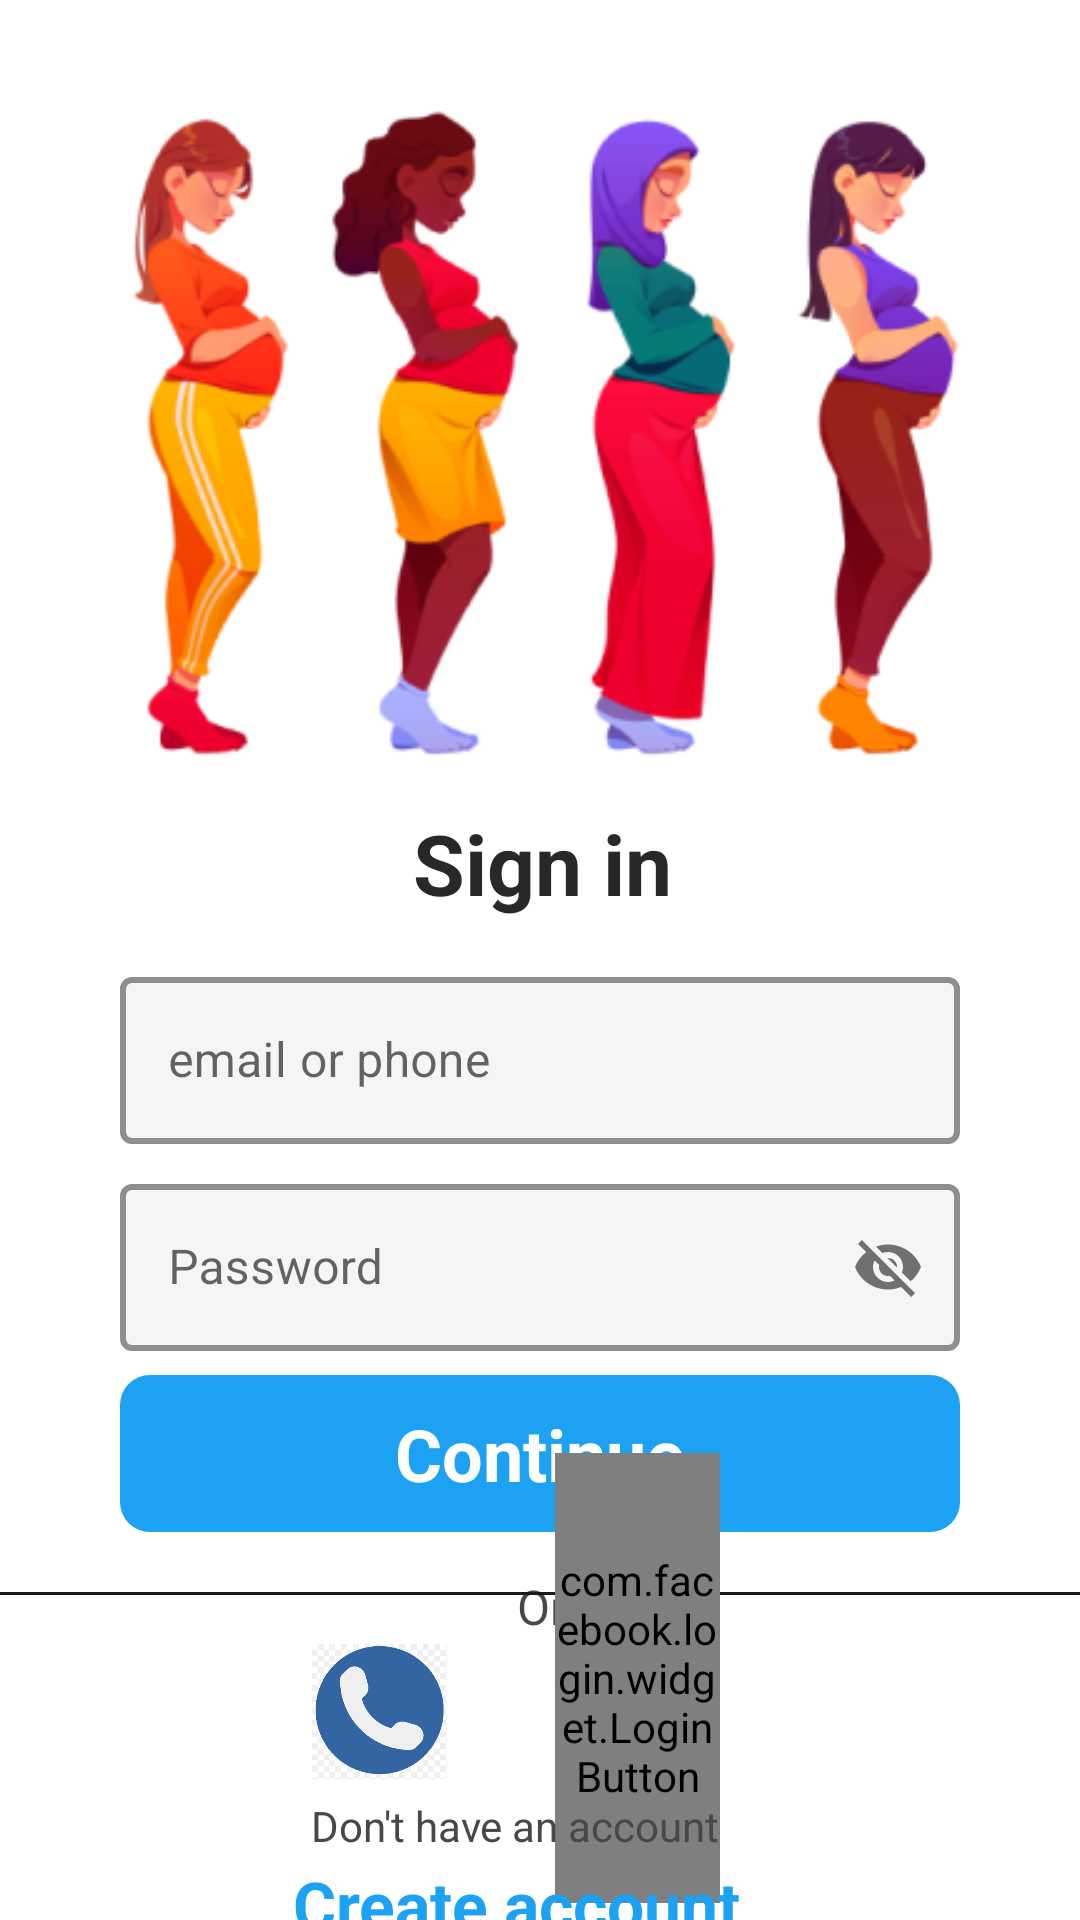

Point at icon controls on the screen. Image size 1080*1920, points as [x,y].
phone: [379,1710]
